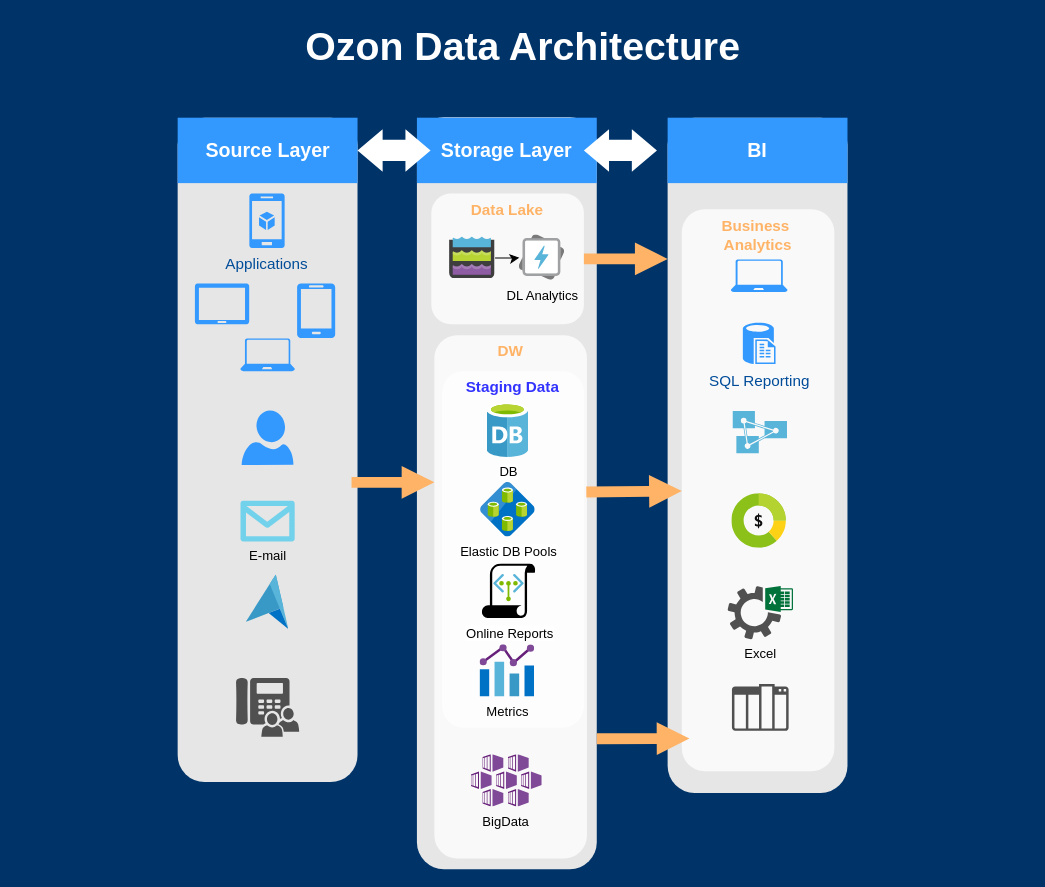
Image size: 1045x887. Some labels were removed from this diagram. The centre of each missing label's shape, as x and y in pixels:
Calls: pixel 267 706
Cash Flows: pixel 758 520
DataLake Analytics: pixel 759 432
Devices: pixel 267 354
DL: pixel 472 257
Locations: pixel 267 601
Social: pixel 267 437
Tableu: pixel 759 706
Web Dashboards: pixel 758 275
